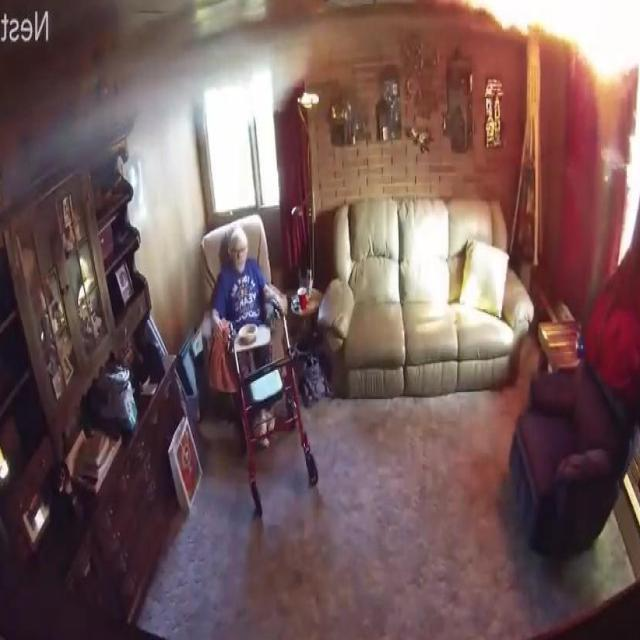fire: (0, 17, 310, 180)
smoke: (467, 0, 640, 87)
